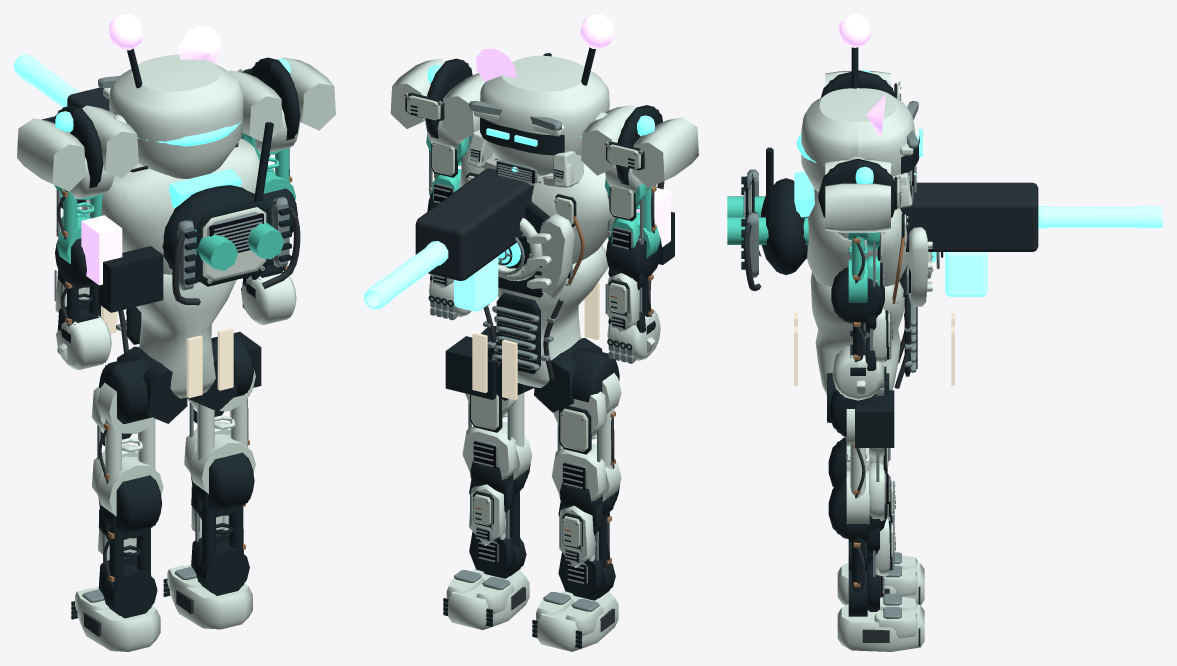
Rendered from chatgpt.glb.
3 renders of one model, left to right at view 1: azimuth 30°, elevation 25°; view 2: azimuth 150°, elevation 25°; view 3: azimuth 270°, elevation 25°, orthographic. The views are drawn at different scales.
Visible parts, largest first — view 1: LOD3_Batch8, LOD1_Batch4, LOD3_Batch47, LOD3_Batch23, LOD3_Batch43, LOD3_Batch36, LOD3_Batch55, LOD3_Batch60, LOD3_Batch51, LOD3_Batch64, LOD7_Batch39, LOD3_Batch68 (+38 smaller); view 2: LOD3_Batch8, LOD7_Batch41, LOD3_Batch43, LOD3_Batch23, LOD3_Batch47, LOD7_Batch42, LOD1_Batch48, LOD3_Batch55, LOD3_Batch36, LOD3_Batch49, LOD3_Batch58, LOD3_Batch64 (+39 smaller); view 3: LOD7_Batch41, LOD3_Batch8, LOD3_Batch43, LOD7_Batch42, LOD3_Batch47, LOD3_Batch36, LOD3_Batch58, LOD3_Batch64, LOD3_Batch3, LOD3_Batch60, LOD3_Batch31, LOD7_Batch67 (+21 smaller).
Boxes of the visible parts, x1,y1,x2,y2 form: LOD3_Batch8: [109, 54, 243, 178]; LOD1_Batch4: [172, 196, 300, 305]; LOD3_Batch47: [136, 274, 236, 398]; LOD3_Batch23: [17, 105, 138, 191]; LOD3_Batch43: [81, 138, 264, 274]; LOD3_Batch36: [229, 57, 335, 141]; LOD3_Batch55: [91, 384, 163, 515]; LOD3_Batch60: [191, 482, 249, 595]; LOD3_Batch51: [98, 505, 157, 618]; LOD3_Batch64: [184, 369, 255, 493]; LOD7_Batch39: [98, 246, 163, 312]; LOD3_Batch68: [117, 346, 237, 423]; LOD3_Batch8: [466, 55, 609, 187]; LOD7_Batch41: [415, 168, 534, 280]; LOD3_Batch43: [459, 148, 615, 298]; LOD3_Batch23: [581, 105, 698, 187]; LOD3_Batch47: [497, 245, 608, 387]; LOD7_Batch42: [364, 241, 498, 311]; LOD1_Batch48: [483, 293, 563, 379]; LOD3_Batch55: [551, 374, 621, 501]; LOD3_Batch36: [390, 58, 484, 141]; LOD3_Batch49: [536, 590, 618, 651]; LOD3_Batch58: [446, 568, 529, 629]; LOD3_Batch64: [462, 393, 532, 479]; LOD7_Batch41: [899, 182, 1038, 297]; LOD3_Batch8: [801, 88, 915, 208]; LOD3_Batch43: [807, 189, 932, 306]; LOD7_Batch42: [945, 206, 1162, 296]; LOD3_Batch47: [810, 272, 904, 395]; LOD3_Batch36: [825, 159, 890, 232]; LOD3_Batch58: [837, 597, 924, 651]; LOD3_Batch64: [846, 410, 884, 524]; LOD3_Batch3: [761, 178, 807, 274]; LOD3_Batch60: [848, 523, 879, 616]; LOD3_Batch31: [832, 308, 886, 400]; LOD7_Batch67: [855, 390, 894, 447].
Size of the model in its own units: 0.9322 by 1.96 by 1.33.
